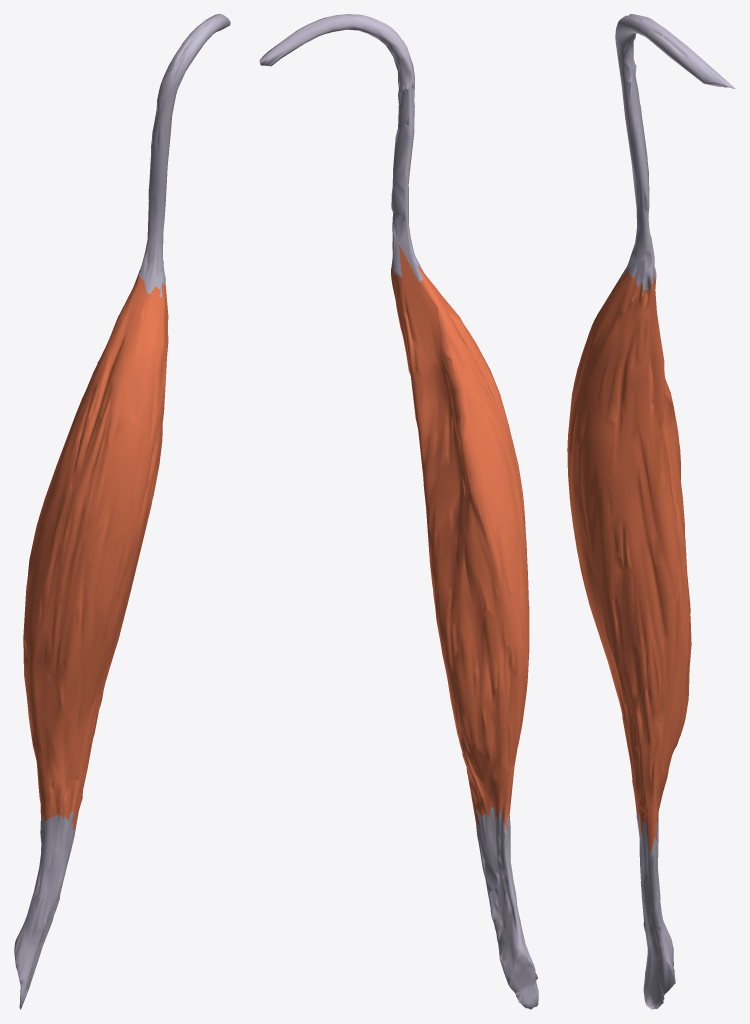
The model's file is Biceps_brachii_long_head_right.glb.
The picture shows the model from 3 angles, left to right: view 1: azimuth 30°, elevation 25°; view 2: azimuth 150°, elevation 25°; view 3: azimuth 270°, elevation 25°; orthographic projection. The views are drawn at different scales.
Visible parts, largest first — view 1: Long_head_of_biceps_brachii.r_Generated_Mesh_From_X3D.381; view 2: Long_head_of_biceps_brachii.r_Generated_Mesh_From_X3D.381; view 3: Long_head_of_biceps_brachii.r_Generated_Mesh_From_X3D.381.
Part boxes in pixels (left/top/right/bottom): Long_head_of_biceps_brachii.r_Generated_Mesh_From_X3D.381: left=14, top=14, right=230, bottom=1009; Long_head_of_biceps_brachii.r_Generated_Mesh_From_X3D.381: left=259, top=14, right=538, bottom=1009; Long_head_of_biceps_brachii.r_Generated_Mesh_From_X3D.381: left=567, top=14, right=735, bottom=1009.
Bounding box in the file's own units: 0.0953 × 0.3571 × 0.0498.
